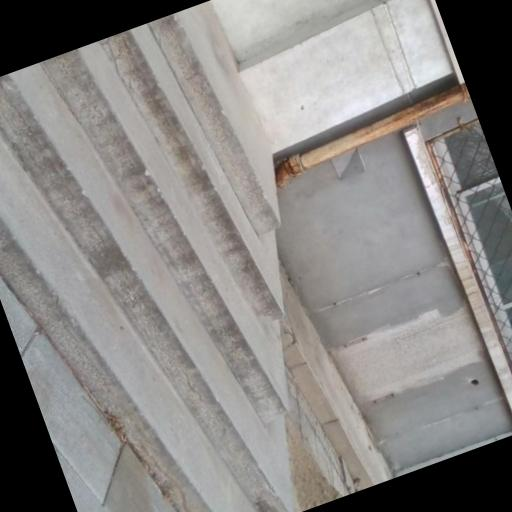stairs: (0, 2, 292, 511)
